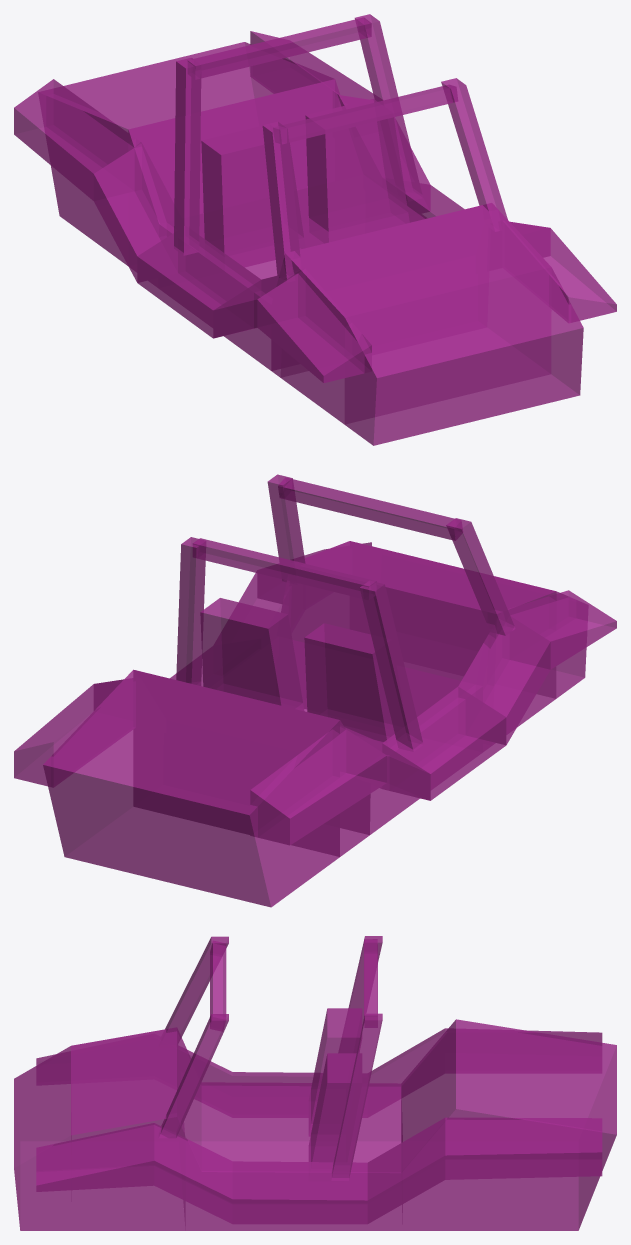
The model's file is SM_Veh_Buggy_01_Collision.fbx.
3 renders of one model, top to bottom at view 1: azimuth 30°, elevation 25°; view 2: azimuth 150°, elevation 25°; view 3: azimuth 270°, elevation 25°, orthographic. The views are drawn at different scales.
Parts seen in each view (by area): view 1: SM_Veh_Buggy_01_Collision; view 2: SM_Veh_Buggy_01_Collision; view 3: SM_Veh_Buggy_01_Collision.
Boxes of the visible parts, <box> form: SM_Veh_Buggy_01_Collision: <box>14,14,616,445</box>; SM_Veh_Buggy_01_Collision: <box>14,474,616,907</box>; SM_Veh_Buggy_01_Collision: <box>14,936,616,1230</box>.
Size of the model in its own units: 197 by 151 by 395.
